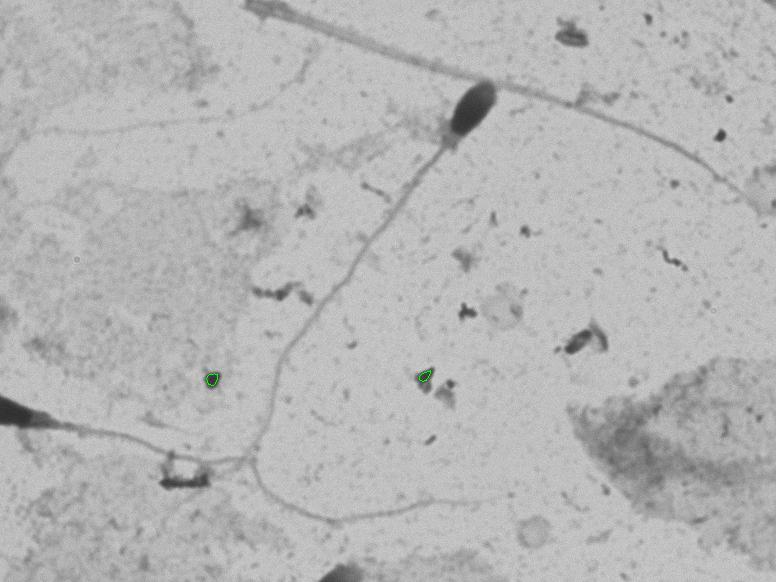Normal: (234, 70, 512, 538)
